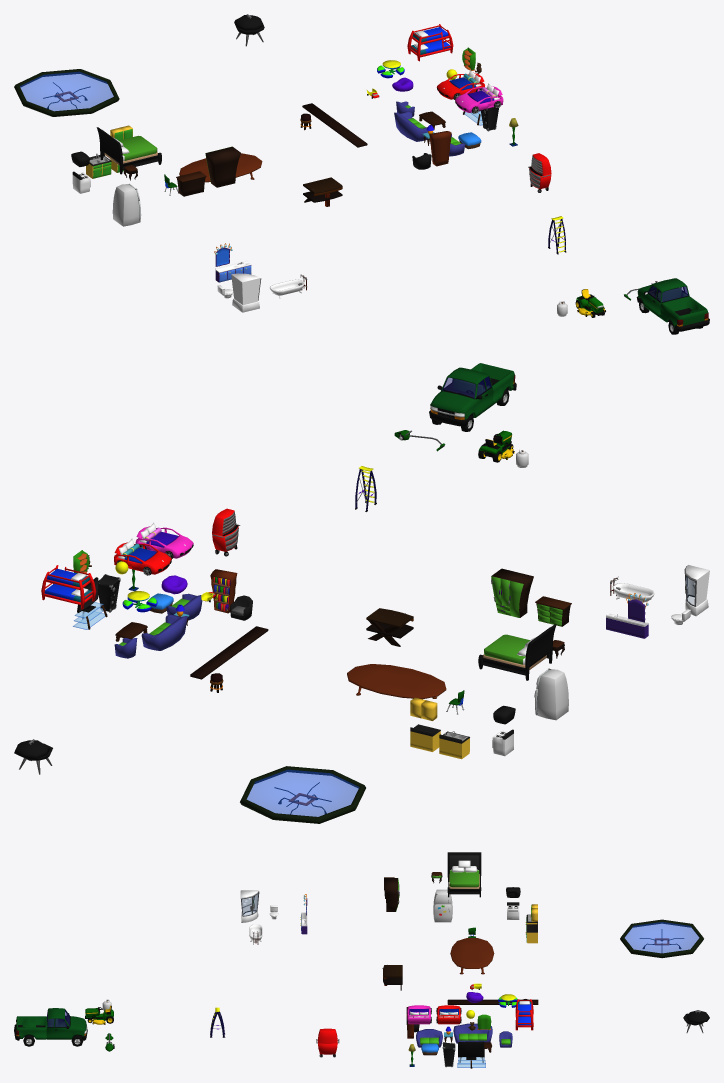
File: AllNewModels.FBX
3 views of the same model, one above another, from view 1: azimuth 30°, elevation 25°; view 2: azimuth 150°, elevation 25°; view 3: azimuth 270°, elevation 25° (orthographic). The views are drawn at different scales.
Parts seen in each view (by area): view 1: Projectile_Large_Porch_Table, Projectile_Large_PickupTruck, Projectile_Large_MasterBedroom_Bed, Projectile_Large_KidsRoom_Bunkbed, Projectile_Large_MasterBedRoom_Closet, Projectile_Large_Kitchen_Refrigerator, Projectile_Large_Bathroom_Shower_Corner, Projectile_Large_KidsRoom_CarBed_girl, Projectile_Large_KidsRoom_CarBed_boy, Projectile_Large_Kitchen_Table, Projectile_Medium_Garage_Bench, Projectile_Large_Garage_toolbox (+6 smaller); view 2: Projectile_Large_Porch_Table, Projectile_Large_PickupTruck, Projectile_Large_Kitchen_Table, Projectile_Large_MasterBedroom_Bed, Projectile_Large_MasterBedRoom_Closet, Projectile_Large_KidsRoom_Bunkbed, Projectile_Large_Kitchen_Refrigerator, Projectile_Large_KidsRoom_CarBed_boy, Projectile_Large_KidsRoom_CarBed_girl, Projectile_Medium_Garage_Bench, Projectile_Large_Bathroom_Shower_Corner, Projectile_Large_LivingRoom_Couch (+7 smaller); view 3: Projectile_Large_Porch_Table, Projectile_Large_PickupTruck, Projectile_Large_MasterBedroom_Bed, Projectile_Large_Kitchen_Table, Projectile_Large_Kitchen_Refrigerator, Projectile_Large_LivingRoom_Couch, Projectile_Large_Bathroom_Shower_Corner, Projectile_Large_Garage_toolbox, Projectile_Large_KidsRoom_Bunkbed, Projectile_Large_KidsRoom_CarBed_boy, Projectile_Large_KidsRoom_CarBed_girl, Projectile_Large_MasterBedRoom_Closet (+4 smaller).
Part boxes in pixels (x1=…): Projectile_Large_Porch_Table: x1=14, y1=69, x2=119, y2=116; Projectile_Large_PickupTruck: x1=636, y1=278, x2=709, y2=334; Projectile_Large_MasterBedroom_Bed: x1=96, y1=127, x2=161, y2=174; Projectile_Large_KidsRoom_Bunkbed: x1=407, y1=24, x2=453, y2=61; Projectile_Large_MasterBedRoom_Closet: x1=205, y1=146, x2=240, y2=187; Projectile_Large_Kitchen_Refrigerator: x1=112, y1=183, x2=141, y2=226; Projectile_Large_Bathroom_Shower_Corner: x1=231, y1=273, x2=261, y2=312; Projectile_Large_KidsRoom_CarBed_girl: x1=455, y1=83, x2=503, y2=113; Projectile_Large_KidsRoom_CarBed_boy: x1=436, y1=70, x2=484, y2=99; Projectile_Large_Kitchen_Table: x1=179, y1=153, x2=262, y2=182; Projectile_Medium_Garage_Bench: x1=303, y1=177, x2=342, y2=206; Projectile_Large_Garage_toolbox: x1=528, y1=153, x2=551, y2=192; Projectile_Large_Porch_Table: x1=240, y1=766, x2=365, y2=823; Projectile_Large_PickupTruck: x1=429, y1=363, x2=516, y2=431; Projectile_Large_Kitchen_Table: x1=347, y1=664, x2=446, y2=699; Projectile_Large_MasterBedroom_Bed: x1=478, y1=624, x2=556, y2=680; Projectile_Large_MasterBedRoom_Closet: x1=491, y1=568, x2=533, y2=617; Projectile_Large_KidsRoom_Bunkbed: x1=41, y1=565, x2=96, y2=609; Projectile_Large_Kitchen_Refrigerator: x1=534, y1=668, x2=568, y2=720; Projectile_Large_KidsRoom_CarBed_boy: x1=114, y1=538, x2=171, y2=575; Projectile_Large_KidsRoom_CarBed_girl: x1=135, y1=522, x2=193, y2=558; Projectile_Medium_Garage_Bench: x1=366, y1=608, x2=413, y2=646; Projectile_Large_Bathroom_Shower_Corner: x1=684, y1=565, x2=709, y2=616; Projectile_Large_LivingRoom_Couch: x1=141, y1=615, x2=187, y2=650; Projectile_Large_Porch_Table: x1=620, y1=919, x2=703, y2=958; Projectile_Large_PickupTruck: x1=14, y1=1008, x2=87, y2=1046; Projectile_Large_MasterBedroom_Bed: x1=447, y1=852, x2=481, y2=897; Projectile_Large_Kitchen_Table: x1=450, y1=938, x2=494, y2=974; Projectile_Large_Kitchen_Refrigerator: x1=433, y1=889, x2=452, y2=922; Projectile_Large_LivingRoom_Couch: x1=453, y1=1023, x2=492, y2=1043; Projectile_Large_Bathroom_Shower_Corner: x1=240, y1=890, x2=259, y2=922; Projectile_Large_Garage_toolbox: x1=316, y1=1028, x2=339, y2=1057; Projectile_Large_KidsRoom_Bunkbed: x1=515, y1=999, x2=533, y2=1030; Projectile_Large_KidsRoom_CarBed_boy: x1=436, y1=1005, x2=461, y2=1024; Projectile_Large_KidsRoom_CarBed_girl: x1=406, y1=1005, x2=431, y2=1024; Projectile_Large_MasterBedRoom_Closet: x1=384, y1=878, x2=399, y2=911.
Size of the model in its own units: 4666 by 935 by 8937.
